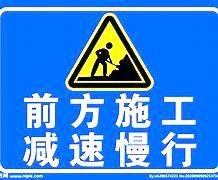sign: (3, 10, 213, 172)
